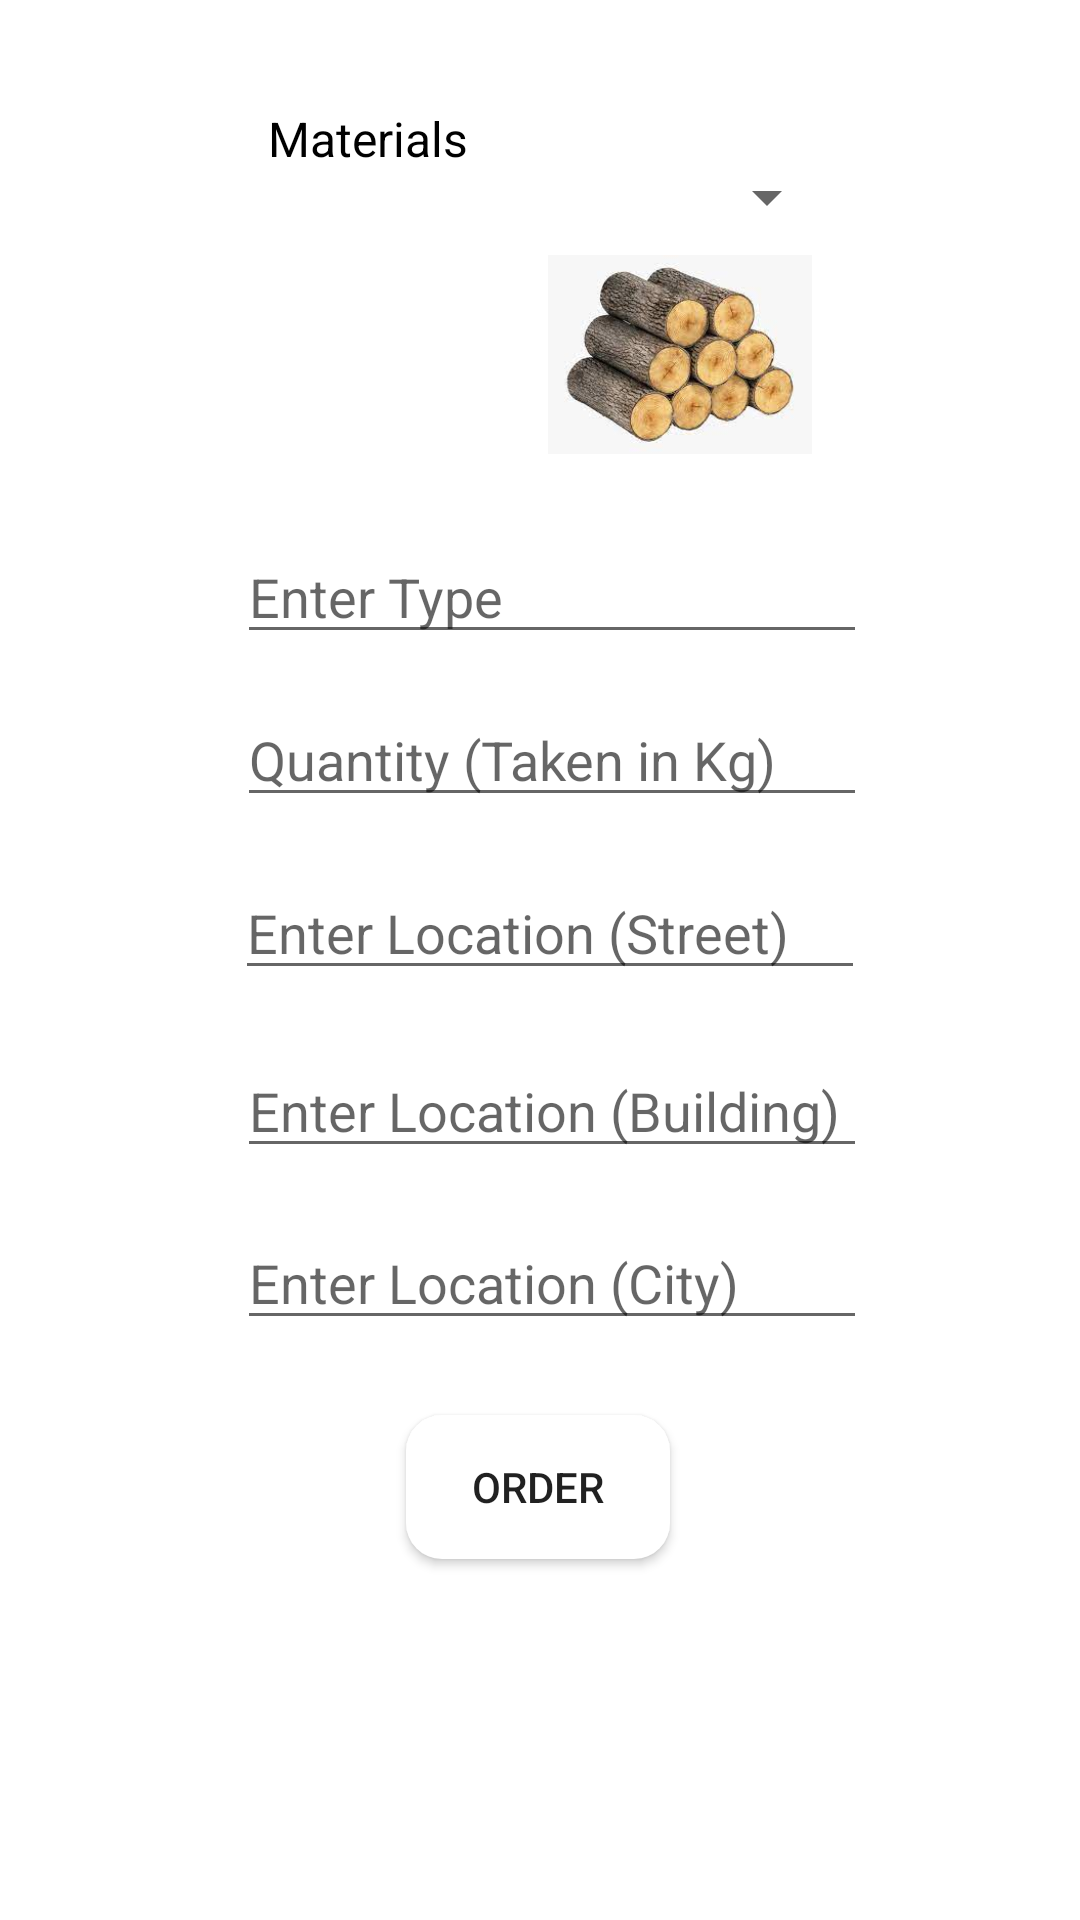

Where to tap for icons on this 1080px x 1920px app screen, as [x,y]:
wood: [680,355]
